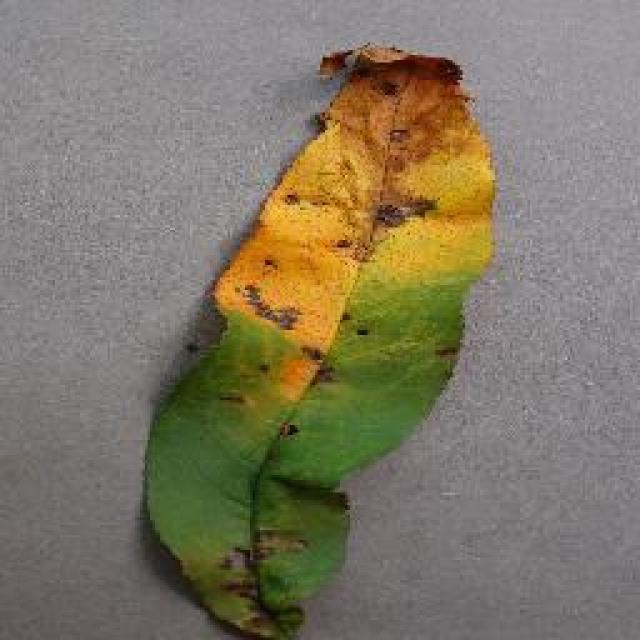Peach_Bacterial_Spot: (265, 69, 472, 448)
